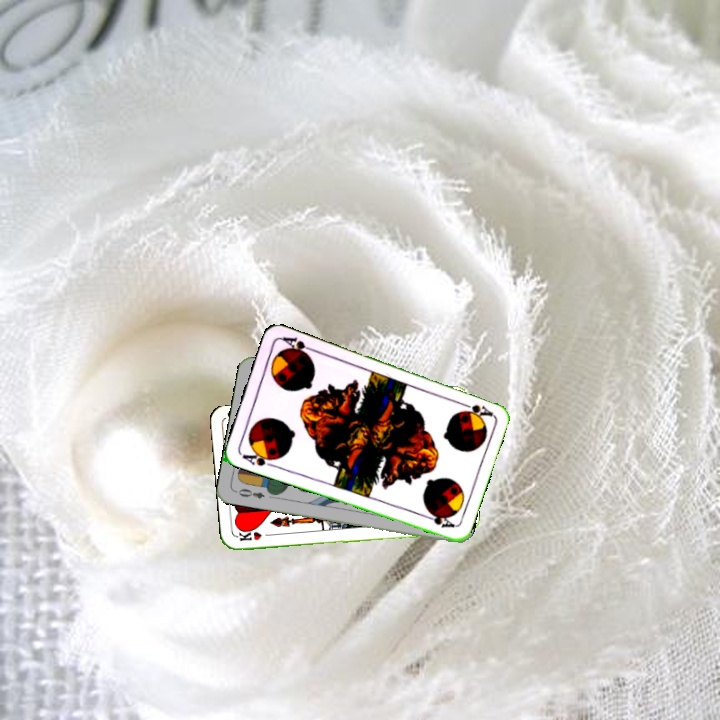EO: (231, 485, 267, 501)
HK: (234, 527, 275, 543)
SA: (238, 446, 279, 470), (455, 398, 495, 419)
